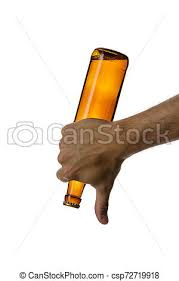beer: (64, 48, 129, 207)
